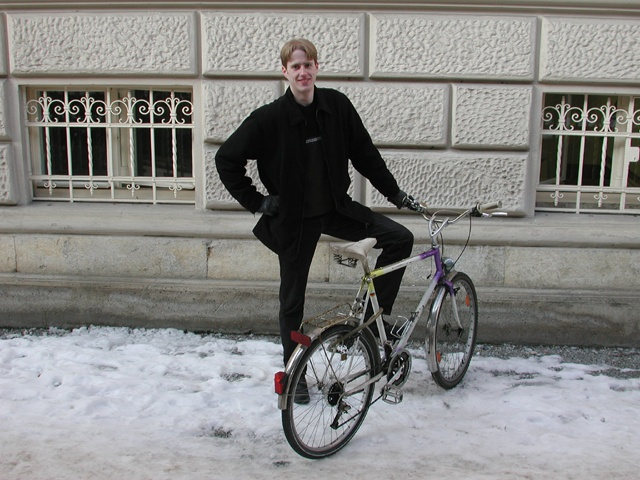person: (210, 37, 422, 406)
